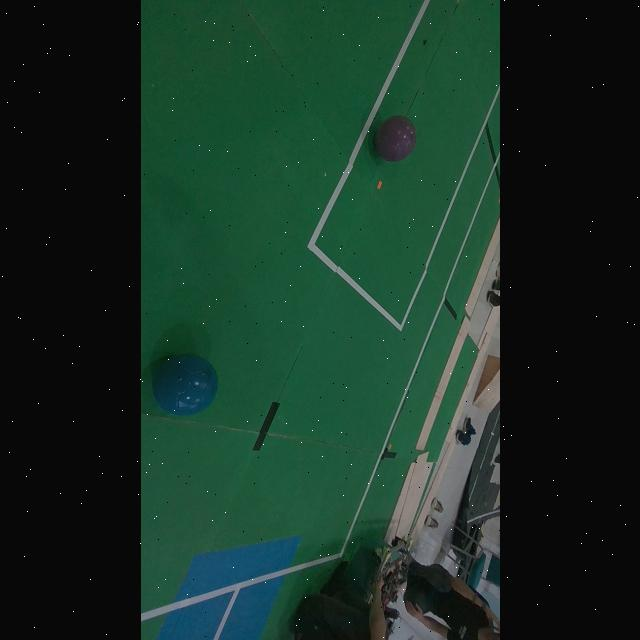B: (152, 356, 217, 415)
P: (375, 116, 416, 162)
